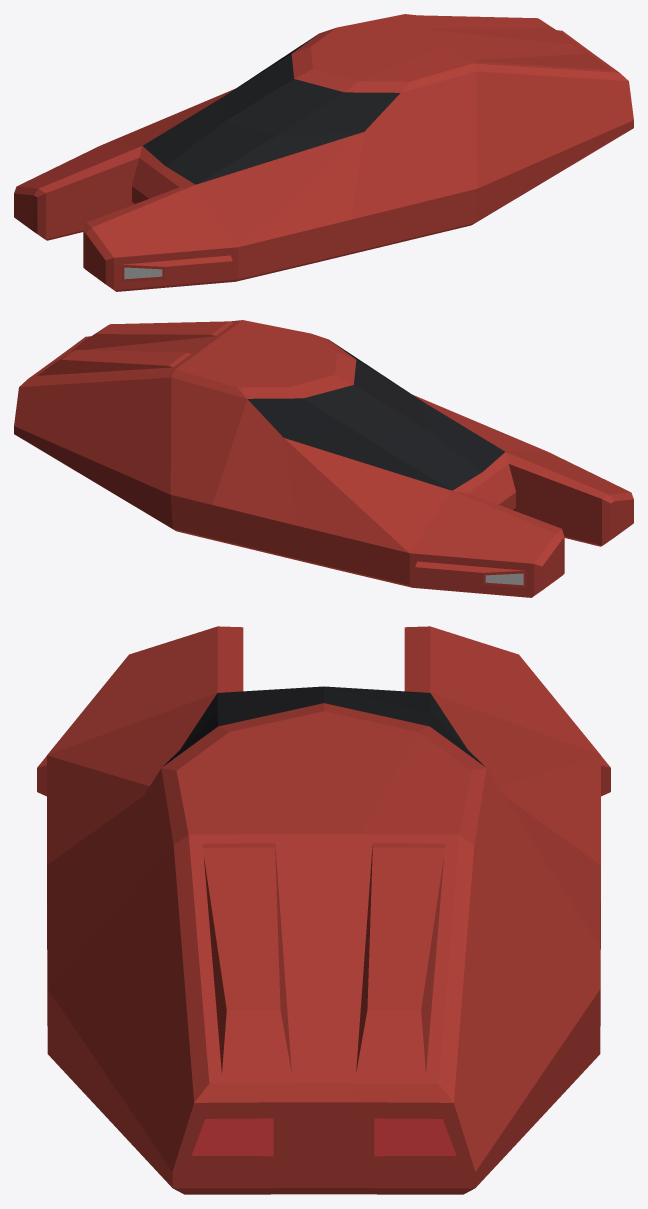
File: Car-6.fbx
3 renders of one model, top to bottom at view 1: azimuth 30°, elevation 25°; view 2: azimuth 150°, elevation 25°; view 3: azimuth 270°, elevation 25°, orthographic. The views are drawn at different scales.
Parts seen in each view (by area): view 1: Car-6; view 2: Car-6; view 3: Car-6.
Boxes of the visible parts, x1=… form: Car-6: x1=14, y1=14, x2=633, y2=291; Car-6: x1=14, y1=320, x2=633, y2=597; Car-6: x1=37, y1=626, x2=610, y2=1194.
Bounding box in the file's own units: 375 × 87.32 × 174.
